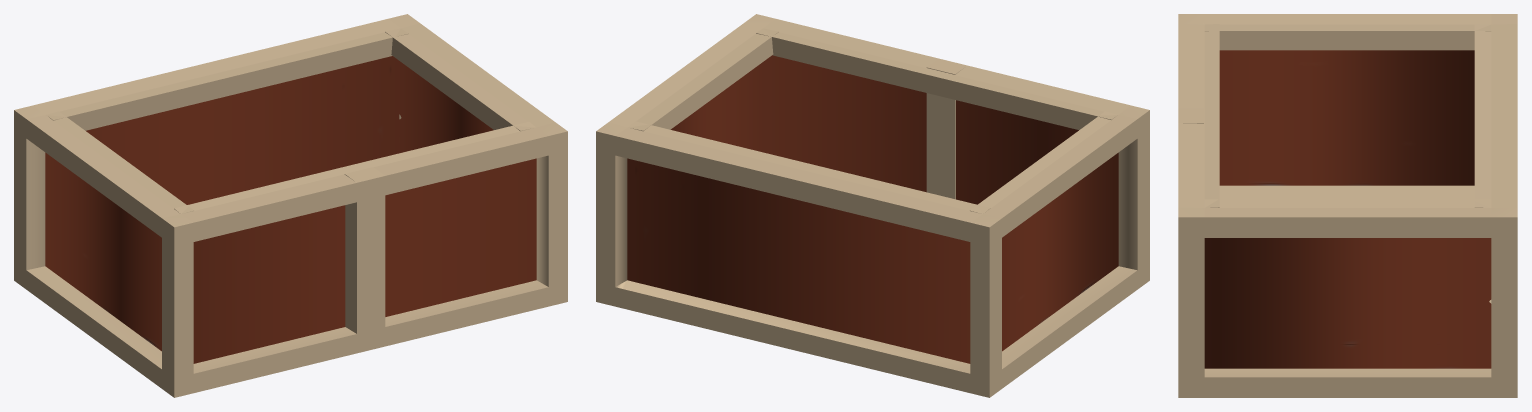
File: TreasureBoxMain.obj
3 renders of one model, left to right at view 1: azimuth 30°, elevation 25°; view 2: azimuth 150°, elevation 25°; view 3: azimuth 270°, elevation 25°, orthographic. The views are drawn at different scales.
Parts seen in each view (by area): view 1: kayu_dalam; view 2: kayu_dalam; view 3: kayu_dalam.
Part boxes in pixels (x1=…): kayu_dalam: x1=14, y1=14, x2=567, y2=397; kayu_dalam: x1=596, y1=14, x2=1149, y2=397; kayu_dalam: x1=1178, y1=14, x2=1517, y2=397.
Bounding box in the file's own units: 2.83 × 1.17 × 2.
2 materials, 1 textured.
